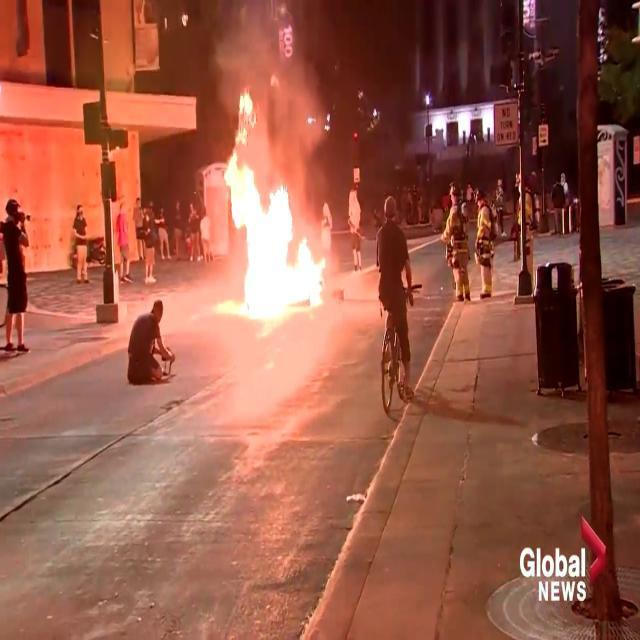Fire: (218, 89, 332, 324)
